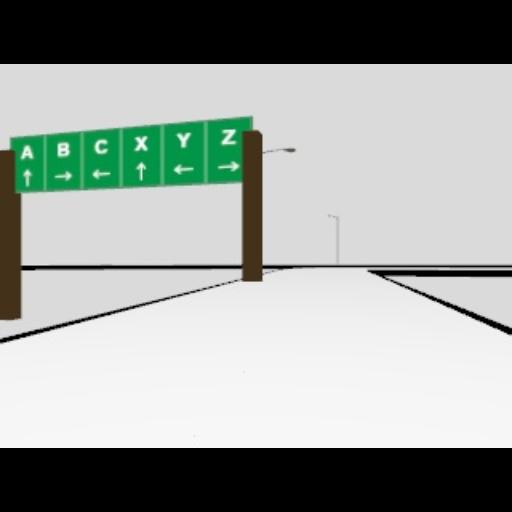A: (19, 144, 33, 160)
B: (56, 141, 68, 157)
C: (94, 138, 108, 154)
Left: (173, 164, 195, 174), (92, 168, 110, 180)
Right: (218, 160, 240, 172), (52, 170, 74, 180)
Straight: (134, 161, 146, 179), (22, 168, 32, 186)
X: (133, 134, 147, 150)
Y: (174, 131, 192, 147)
Z: (219, 128, 237, 144)
